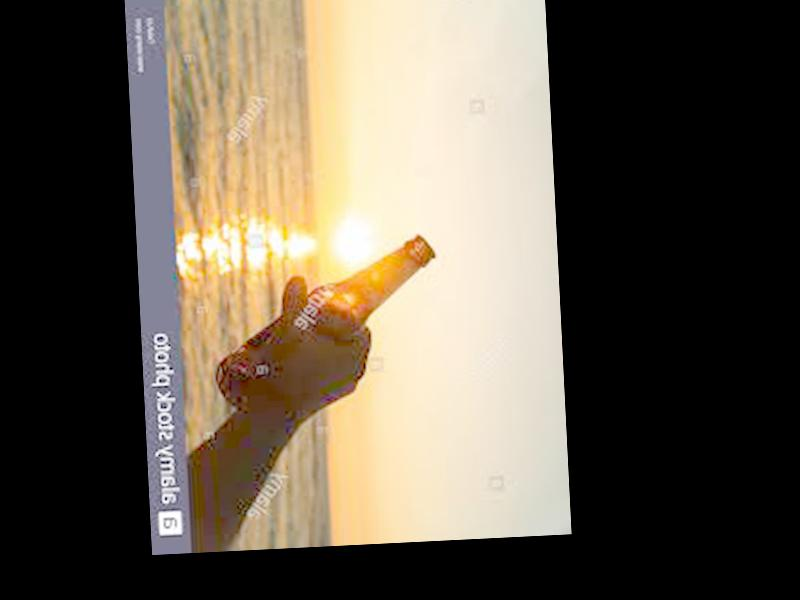Beer: (208, 234, 446, 414)
